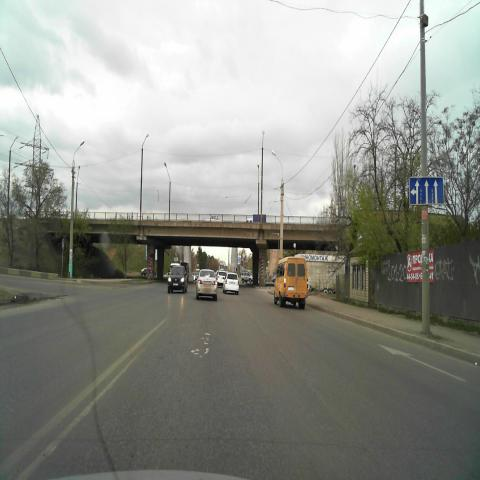5_15_1: (408, 175, 444, 206)
